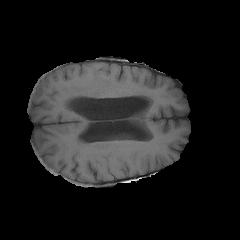glioma: (60, 78, 155, 107)
